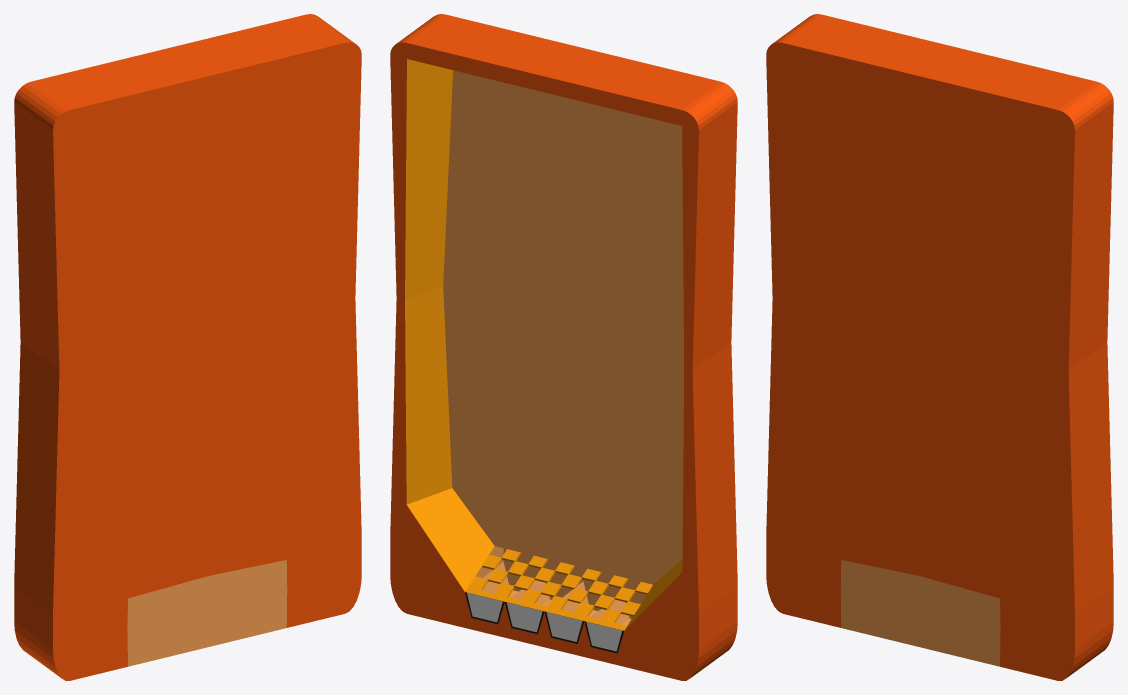
File: last_bg_yellow.fbx
3 renders of one model, left to right at view 1: azimuth 30°, elevation 25°; view 2: azimuth 150°, elevation 25°; view 3: azimuth 330°, elevation 25°, orthographic.
Parts seen in each view (by area): view 1: background_yellow.001; view 2: background_yellow.001, grille.yellow.001; view 3: background_yellow.001.
Part boxes in pixels (<box>): background_yellow.001: <box>14,14,361,680</box>; background_yellow.001: <box>390,14,737,680</box>; grille.yellow.001: <box>465,549,652,630</box>; background_yellow.001: <box>766,14,1113,680</box>.
Bounding box in the file's own units: 9.06 × 16 × 1.97.
